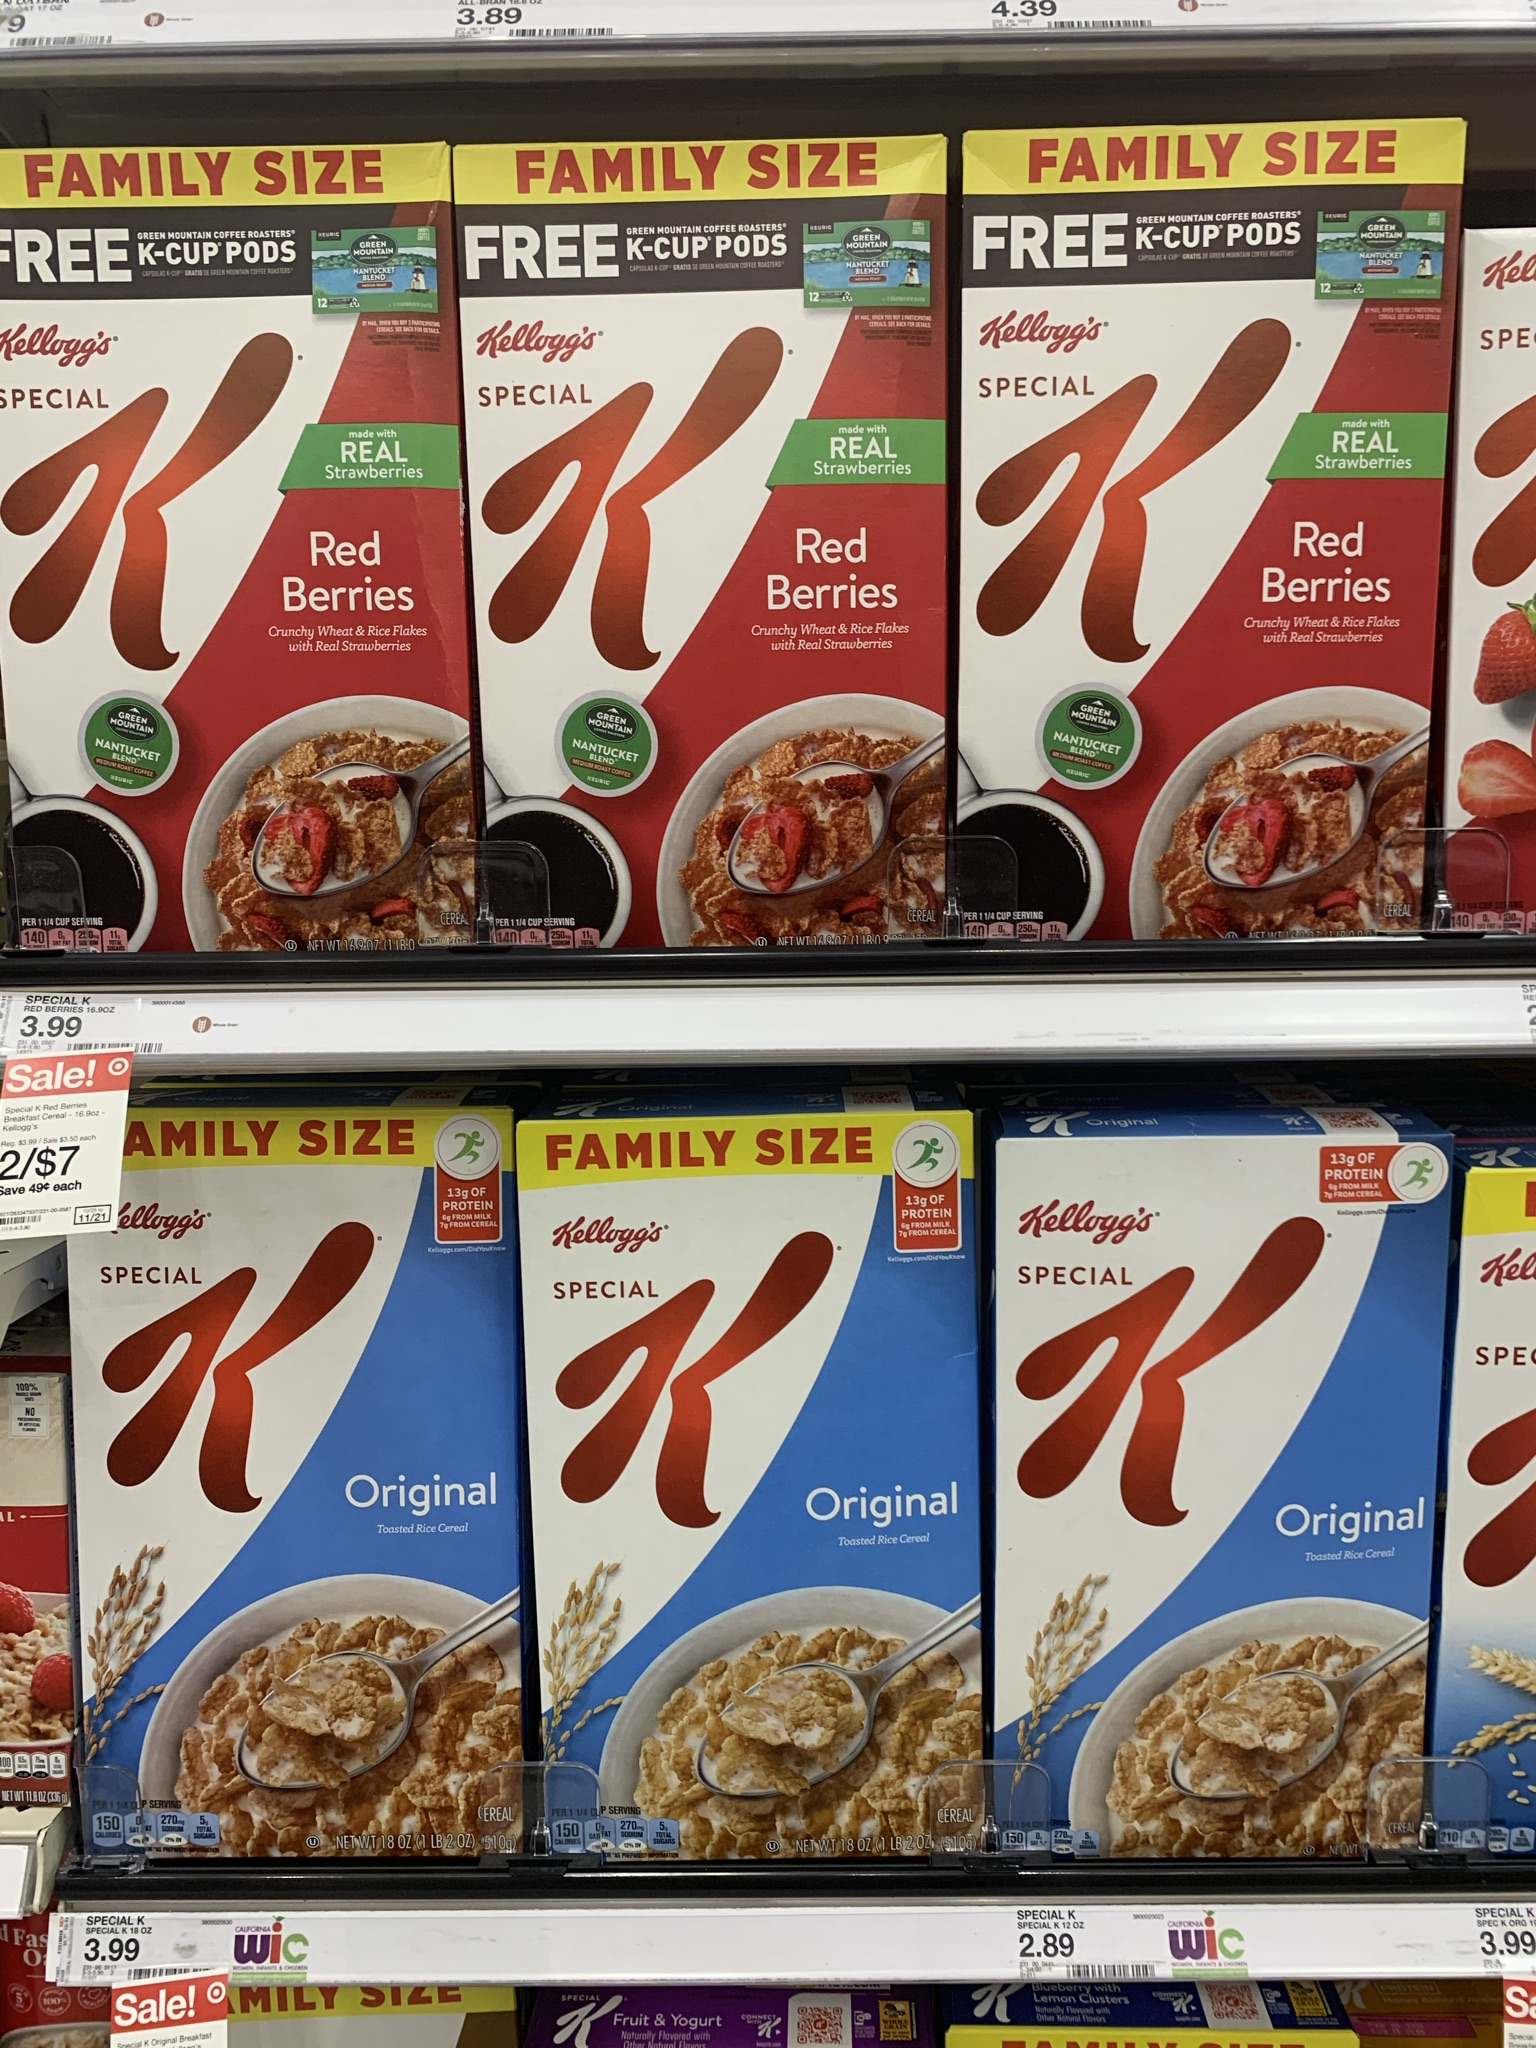cereal: (449, 152, 950, 959), (958, 118, 1418, 943), (2, 140, 449, 950), (516, 1126, 975, 1869), (55, 1130, 523, 1854), (1010, 1132, 1426, 1872)
